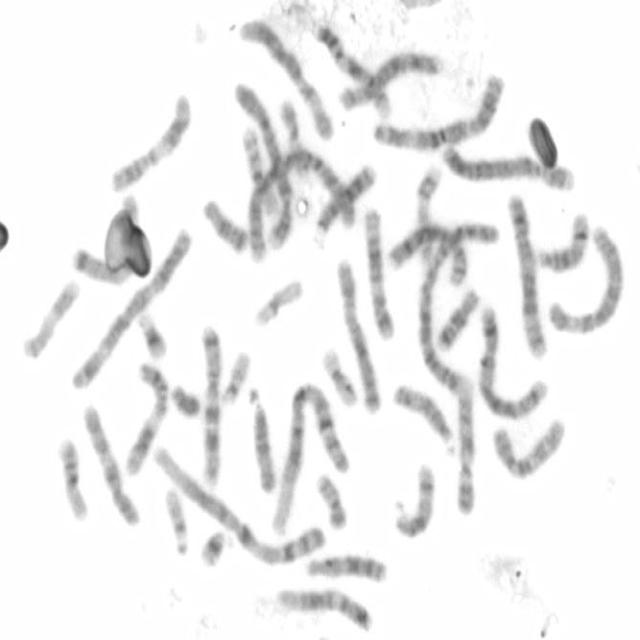A1: (152, 439, 330, 568), (266, 378, 350, 540)
A2: (413, 210, 502, 397), (241, 141, 355, 263)
A3: (67, 224, 193, 391), (370, 68, 507, 152)
B4: (230, 77, 296, 255), (438, 137, 578, 194)
B5: (473, 299, 549, 420), (503, 190, 550, 361)
C10: (79, 400, 142, 529), (488, 412, 569, 482)
C11: (106, 85, 194, 195), (121, 355, 171, 480)
C12: (273, 583, 375, 634), (360, 204, 396, 340)
C6: (236, 16, 335, 142), (543, 221, 627, 336)
C7: (68, 194, 146, 289), (196, 319, 224, 488)
C8: (334, 47, 444, 113), (385, 216, 471, 289)
C9: (309, 18, 393, 120), (451, 376, 478, 519)
D13: (311, 158, 379, 236), (301, 547, 390, 586)
D14: (389, 456, 436, 540), (533, 206, 590, 273)
D15: (388, 376, 458, 454), (246, 386, 278, 495)
E16: (239, 126, 280, 220), (55, 434, 90, 524)
E17: (19, 275, 82, 361), (412, 162, 441, 249)
E18: (432, 283, 480, 353), (200, 194, 250, 255)
F19: (250, 274, 306, 330), (318, 342, 359, 409)
F20: (277, 96, 310, 184), (313, 468, 348, 530)
G21: (133, 307, 169, 361), (196, 524, 229, 570)
G22: (160, 480, 190, 556), (217, 346, 251, 406)
X: (333, 255, 382, 416)
Y: (169, 378, 202, 418)
